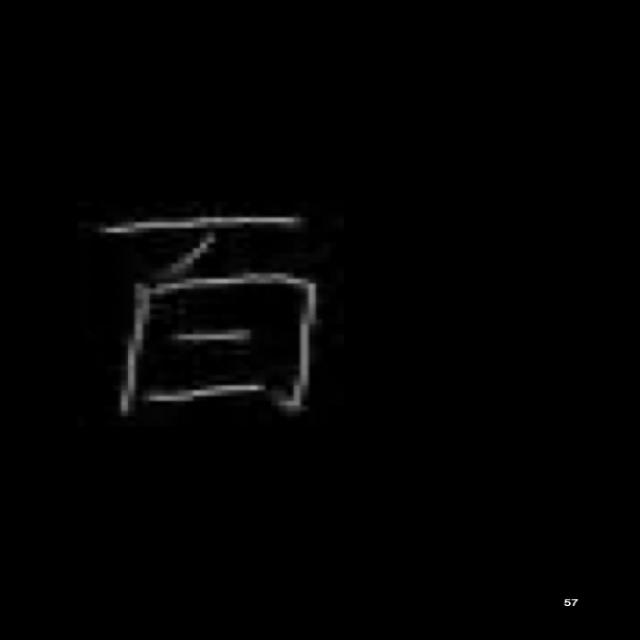100 -a hundred-: (81, 203, 338, 430)
